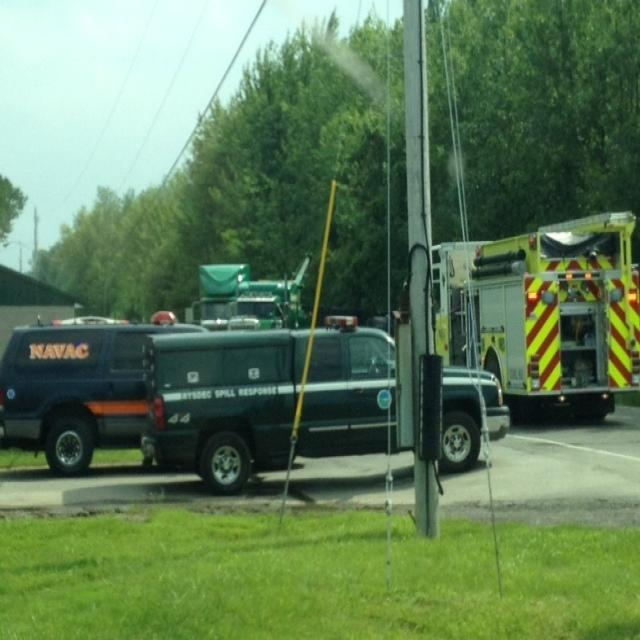car: (135, 315, 509, 487), (0, 307, 210, 477)
pole: (396, 0, 449, 536)
truck: (140, 311, 509, 496), (431, 212, 635, 420), (0, 317, 206, 477), (235, 276, 299, 326)
